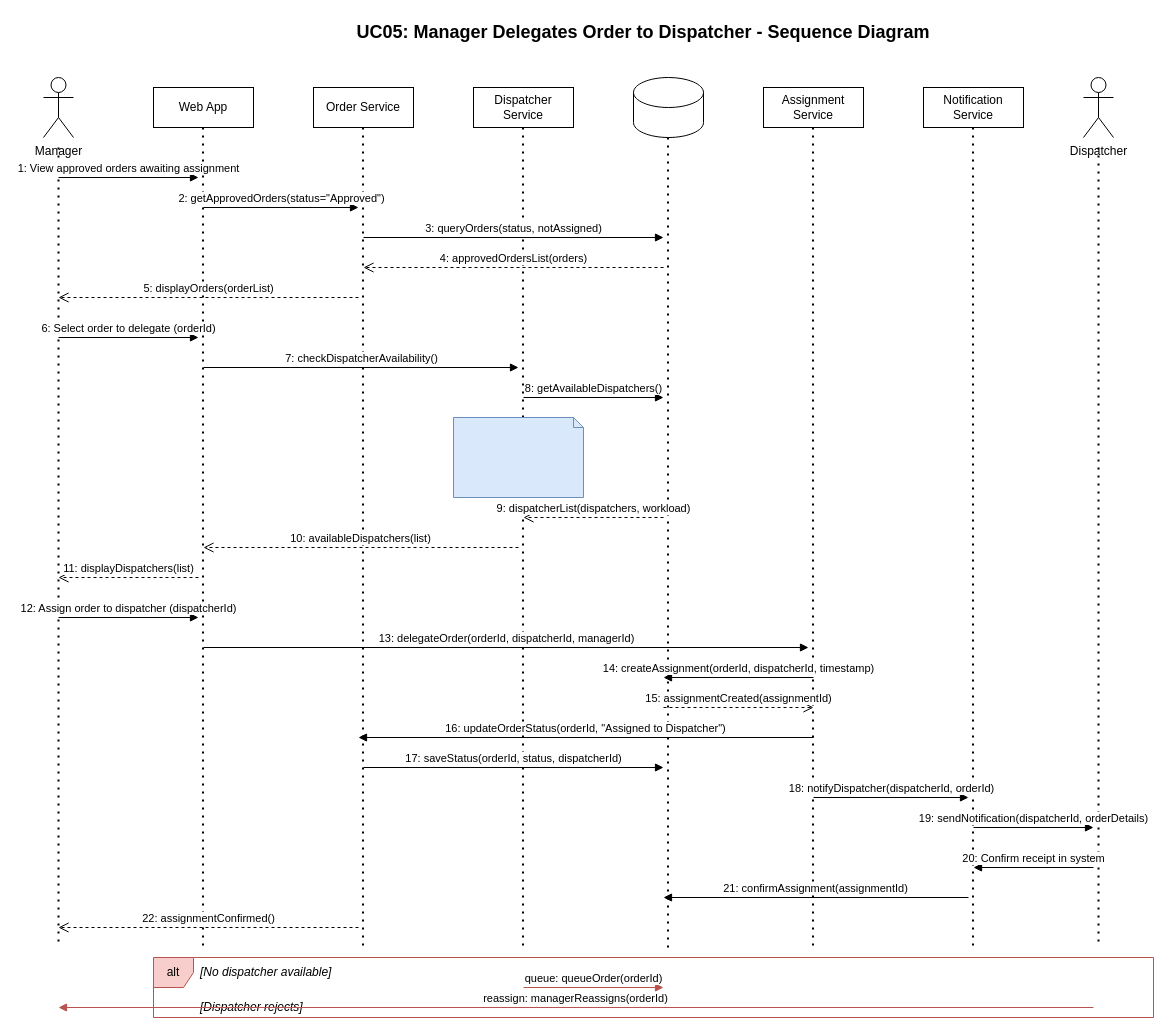
Image size: 1171x1035. Some labels were removed from this diagram. The centre of each missing label's shape, as x and y in pixels:
Check: - Active status - Current workload - Shift schedule - Location/zone: point (518, 457)
Database: point (668, 107)
